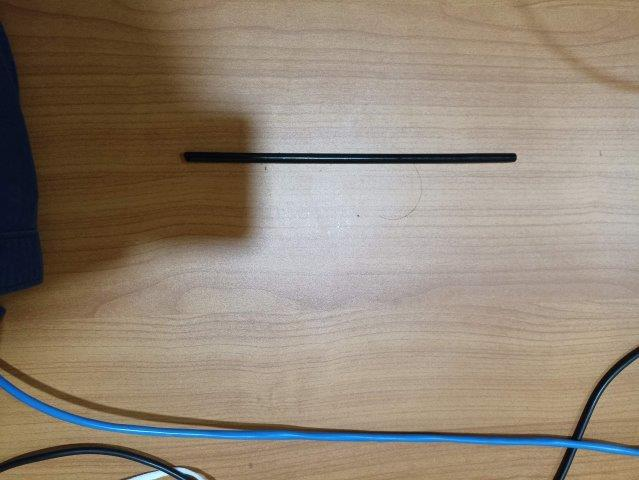sedotan: (184, 152, 517, 163)
